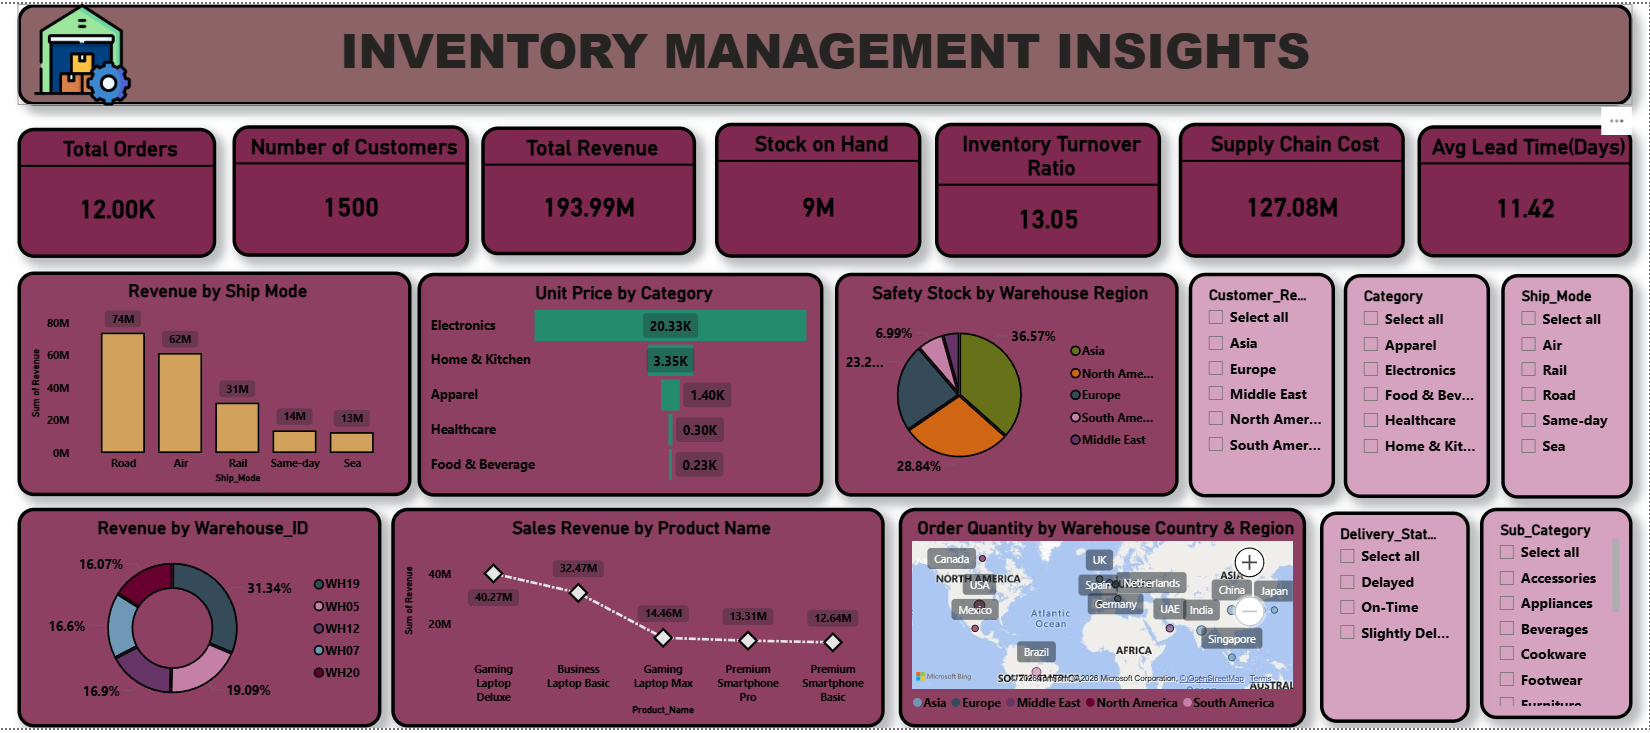

The page's visual inventory and layout, read from the dashboard file:
{"tool":"powerbi","page":{"name":"Page 3","canvas":[1884,827],"ordinal":2},"visuals":[{"type":"card","title":"Total Orders","fields":{"Values":["CountNonNull(Fact_Orders.Order_ID)"]},"box":[20,141.4,227.1,148.6],"z":0},{"type":"card","title":"Number of Customers","fields":{"Values":["Count(Dim_Customer.Customer_ID)"]},"box":[265.7,138.6,270,150],"z":1000},{"type":"card","title":" Supply Chain Cost","fields":{"Values":["Data_Dictionary.Total_Supply_Chain_Cost"]},"box":[1347.1,135.7,258.6,154.3],"z":2000},{"type":"card","title":"Stock on Hand","fields":{"Values":["Sum(Fact_Inventory.Stock_On_Hand)"]},"box":[817.1,135.7,235.7,154.3],"z":3000},{"type":"card","title":"Total Revenue","fields":{"Values":["Sum(Fact_Orders.Revenue)"]},"box":[550,140,245.7,147.1],"z":4000},{"type":"card","title":"Avg Lead Time(Days)","fields":{"Values":["Data_Dictionary.Avg Lead Time (Days)"]},"box":[1620,138.6,245.7,151.4],"z":5000},{"type":"card","title":"Inventory Turnover Ratio","fields":{"Values":["Data_Dictionary.Inventory_Turnover_Ratio"]},"box":[1068.6,135.7,258.6,154.3],"z":6000},{"type":"textbox","box":[20,0,1845.7,115.7],"z":7000},{"type":"map","title":"Order Quantity by Warehouse Country & Region","fields":{"Category":["Dim_Warehouse.Warehouse_Country"],"Series":["Dim_Warehouse.Warehouse_Region"],"Size":["Sum(Fact_Orders.Order_Quantity)"]},"box":[1027.1,575.7,465.7,251.4],"z":8000},{"type":"columnChart","title":"Revenue by Ship Mode","fields":{"Category":["Fact_Orders.Ship_Mode"],"Y":["Sum(Fact_Orders.Revenue)"]},"box":[20,305.7,450,257.1],"z":9000},{"type":"funnel","title":"Unit Price by Category","fields":{"Category":["Dim_Product.Category"],"Y":["Sum(Dim_Product.Unit_Price)"]},"box":[477.1,307.1,464.3,255.7],"z":10000},{"type":"donutChart","title":"Revenue by Warehouse_ID","fields":{"Category":["Dim_Warehouse.Warehouse_ID"],"Y":["Sum(Fact_Orders.Revenue)"]},"box":[20,575.7,415.7,251.4],"z":11000},{"type":"pieChart","title":"Safety Stock by Warehouse Region","fields":{"Y":["Sum(Fact_Inventory.Safety_Stock)"],"Category":["Dim_Warehouse.Warehouse_Region"]},"box":[954.3,307.1,392.9,255.7],"z":12000},{"type":"lineChart","title":"Sales Revenue by Product Name","fields":{"Category":["Dim_Product.Product_Name"],"Y":["Sum(Fact_Orders.Revenue)"]},"box":[447.1,575.7,564.3,251.4],"z":13000},{"type":"slicer","fields":{"Values":["Dim_Customer.Customer_Region"]},"box":[1358.6,307.1,167.1,257.1],"z":14000},{"type":"slicer","fields":{"Values":["Fact_Orders.Ship_Mode"]},"box":[1715.7,308.6,150,257.1],"z":15000},{"type":"slicer","fields":{"Values":["Dim_Product.Sub_Category"]},"box":[1691.4,575.7,174.3,241.4],"z":16000},{"type":"slicer","fields":{"Values":["Dim_Product.Category"]},"box":[1535.7,308.6,167.1,255.7],"z":17000},{"type":"slicer","fields":{"Values":["Fact_Orders.Delivery_Status"]},"box":[1508.6,580,171.4,241.4],"z":18000},{"type":"image","box":[34.3,0,120,115.7],"z":19000}]}

Visuals, with their boxes in screenshot pixels (x1, y1, x2, y2), scaled from the page's 1884x827 canvas onto the 1650x733 screenshot:
"Total Orders" card: box=[18, 125, 216, 257]
"Number of Customers" card: box=[233, 123, 469, 256]
" Supply Chain Cost" card: box=[1180, 120, 1406, 257]
"Stock on Hand" card: box=[716, 120, 922, 257]
"Total Revenue" card: box=[482, 124, 697, 254]
"Avg Lead Time(Days)" card: box=[1419, 123, 1634, 257]
"Inventory Turnover Ratio" card: box=[936, 120, 1162, 257]
textbox: box=[18, 0, 1634, 103]
"Order Quantity by Warehouse Country & Region" map: box=[900, 510, 1307, 732]
"Revenue by Ship Mode" columnChart: box=[18, 271, 412, 499]
"Unit Price by Category" funnel: box=[418, 272, 824, 499]
"Revenue by Warehouse_ID" donutChart: box=[18, 510, 382, 732]
"Safety Stock by Warehouse Region" pieChart: box=[836, 272, 1180, 499]
"Sales Revenue by Product Name" lineChart: box=[392, 510, 886, 732]
slicer - Dim_Customer.Customer_Region: box=[1190, 272, 1336, 500]
slicer - Fact_Orders.Ship_Mode: box=[1503, 274, 1634, 501]
slicer - Dim_Product.Sub_Category: box=[1481, 510, 1634, 724]
slicer - Dim_Product.Category: box=[1345, 274, 1491, 500]
slicer - Fact_Orders.Delivery_Status: box=[1321, 514, 1471, 728]
image: box=[30, 0, 135, 103]
